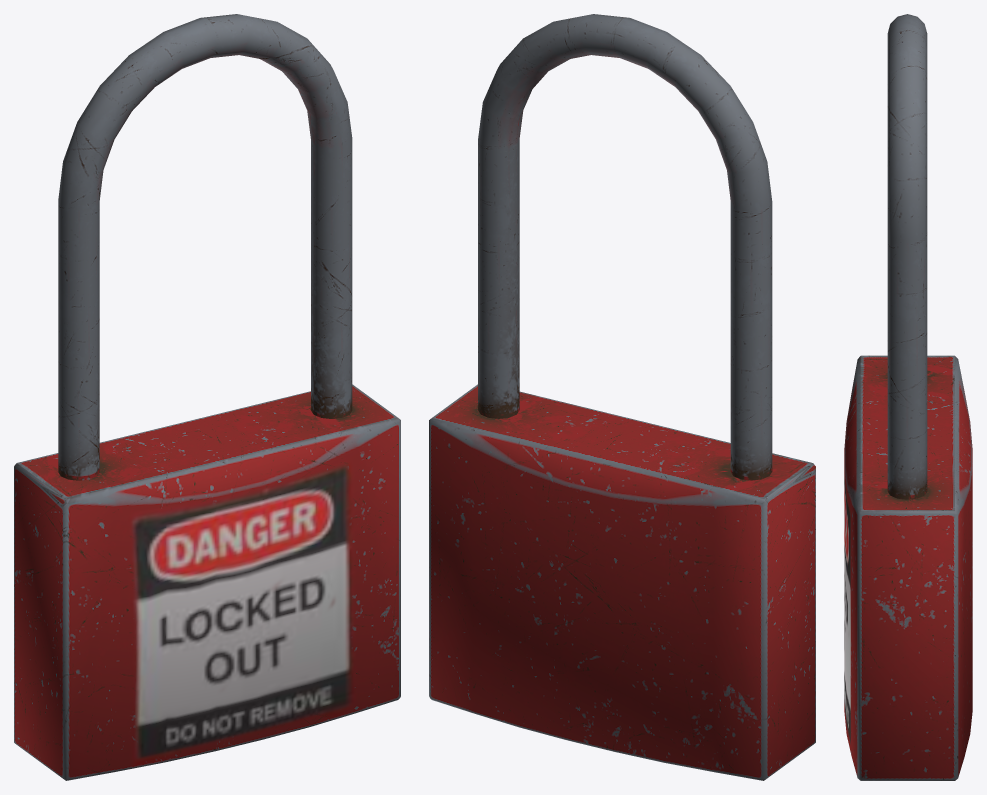
The model's file is candadoBloqueo.fbx.
The picture shows the model from 3 angles, left to right: view 1: azimuth 30°, elevation 25°; view 2: azimuth 150°, elevation 25°; view 3: azimuth 270°, elevation 25°; orthographic projection. The views are drawn at different scales.
Parts seen in each view (by area): view 1: Torus001; view 2: Torus001; view 3: Torus001.
Part boxes in pixels (bbox=[...]): Torus001: bbox=[14, 14, 400, 780]; Torus001: bbox=[429, 14, 815, 780]; Torus001: bbox=[844, 14, 972, 780].
Size of the model in its own units: 61.24 by 122 by 21.03.
Materials: 1 (1 with a texture image).
